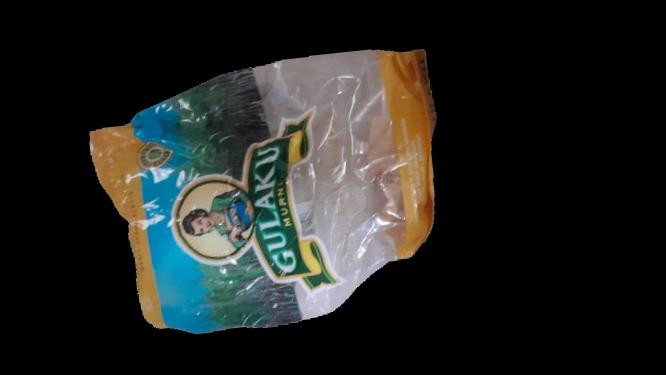Plastik: (80, 34, 464, 344)
